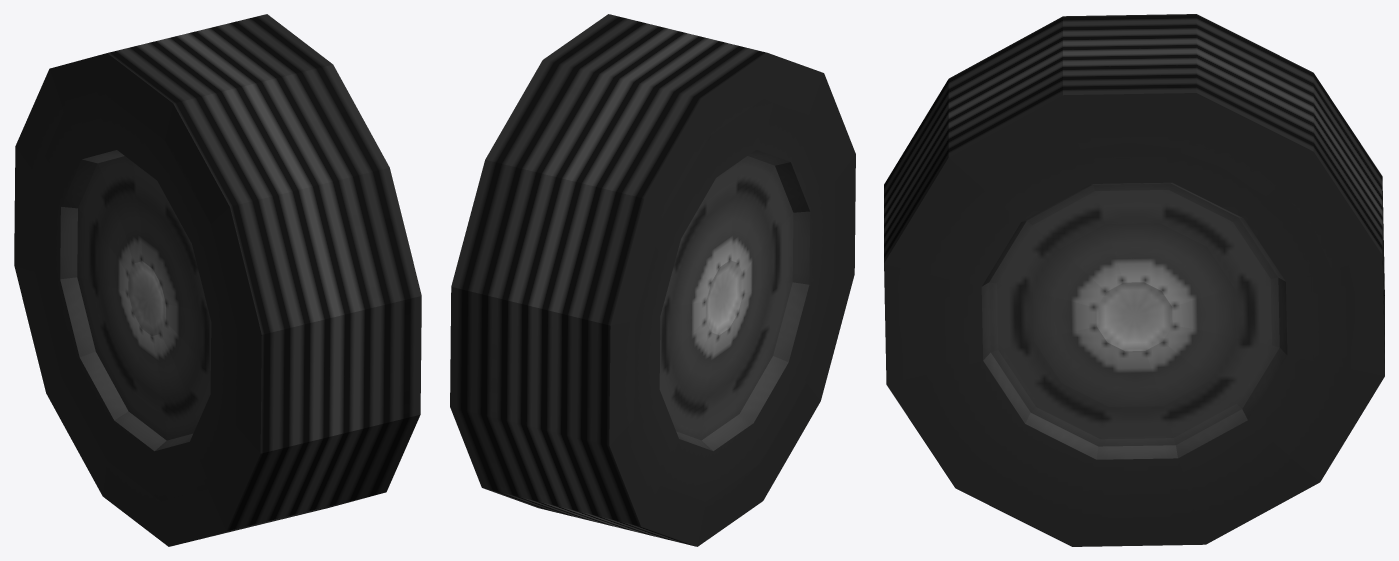
File: D15WheelD.fbx
3 views of the same model, side by side, from view 1: azimuth 30°, elevation 25°; view 2: azimuth 150°, elevation 25°; view 3: azimuth 270°, elevation 25° (orthographic).
Visible parts, largest first — view 1: GavrilWheel; view 2: GavrilWheel; view 3: GavrilWheel.
Boxes of the visible parts, x1=… form: GavrilWheel: x1=14, y1=14, x2=421, y2=546; GavrilWheel: x1=450, y1=14, x2=855, y2=546; GavrilWheel: x1=884, y1=14, x2=1384, y2=546.
Size of the model in its own units: 0.3644 by 0.9486 by 0.9486.
